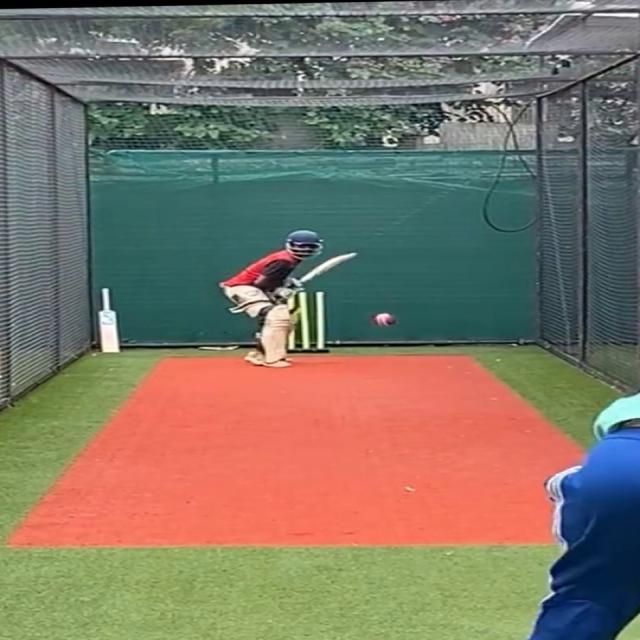ball: (371, 308, 402, 326)
stump: (288, 286, 335, 354)
